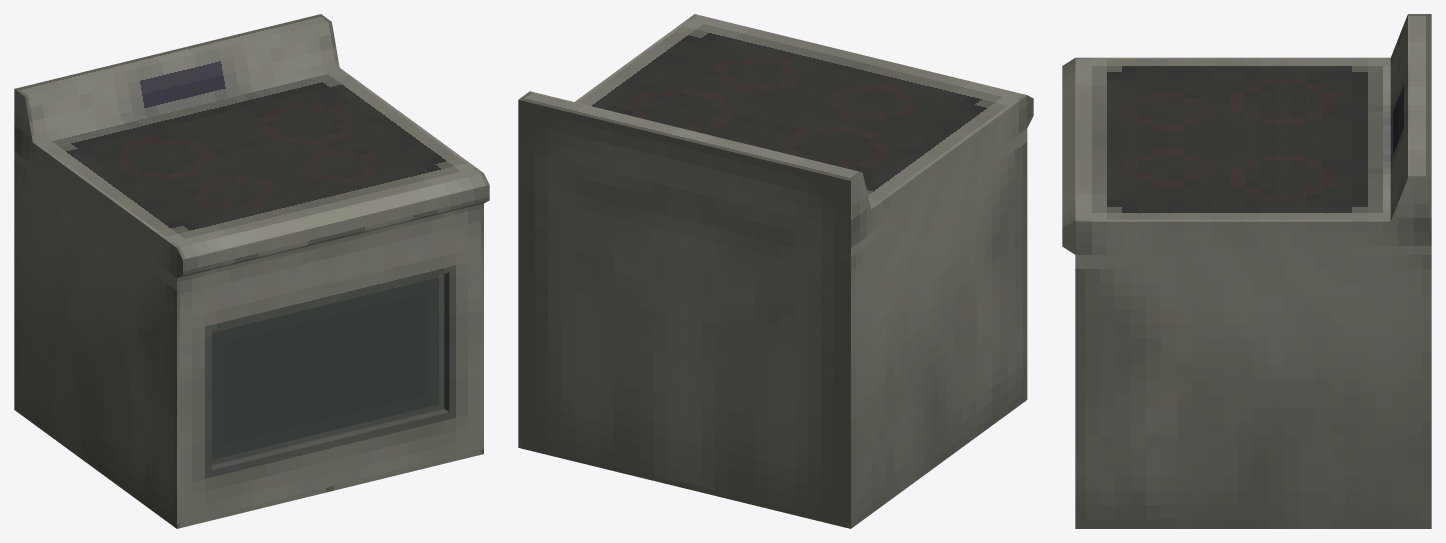
The model's file is oven.glb.
3 renders of one model, left to right at view 1: azimuth 30°, elevation 25°; view 2: azimuth 150°, elevation 25°; view 3: azimuth 270°, elevation 25°, orthographic. The views are drawn at different scales.
Parts seen in each view (by area): view 1: OVEN; view 2: OVEN; view 3: OVEN.
Part boxes in pixels (x1=…): OVEN: x1=14, y1=14, x2=489, y2=528; OVEN: x1=518, y1=14, x2=1033, y2=528; OVEN: x1=1062, y1=14, x2=1431, y2=528.
Size of the model in its own units: 4 by 4 by 3.81.
Materials: 1 (1 with a texture image).
